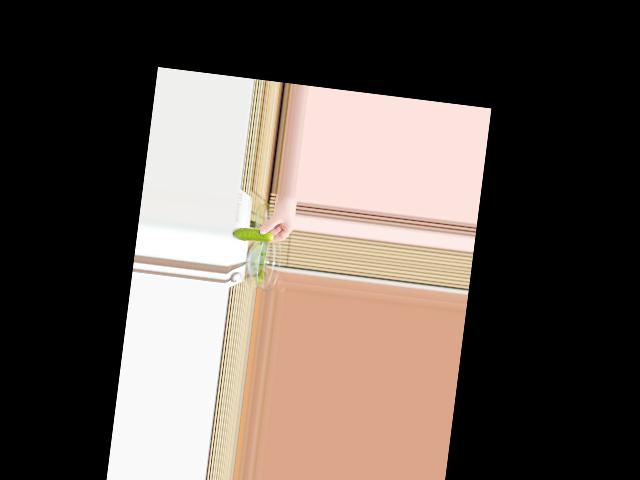cucumber: (232, 226, 274, 243)
